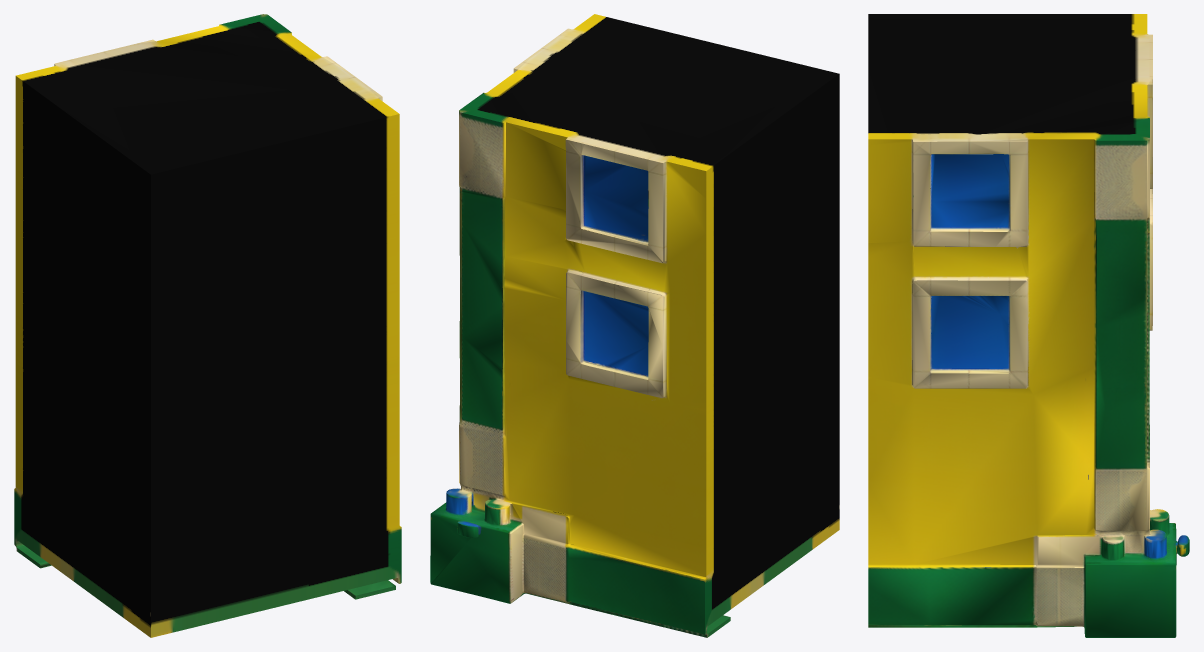
File: 4-ground-floor-back-right.fbx
3 views of the same model, side by side, from view 1: azimuth 30°, elevation 25°; view 2: azimuth 150°, elevation 25°; view 3: azimuth 270°, elevation 25° (orthographic). The views are drawn at different scales.
Visible parts, largest first — view 1: ground-floor-back-right; view 2: ground-floor-back-right; view 3: ground-floor-back-right.
Part boxes in pixels (x1=…): ground-floor-back-right: x1=14, y1=14, x2=401, y2=637; ground-floor-back-right: x1=430, y1=14, x2=839, y2=637; ground-floor-back-right: x1=868, y1=14, x2=1189, y2=637.
Size of the model in its own units: 5041 by 8576 by 5095.
Materials: 1 (1 with a texture image).
